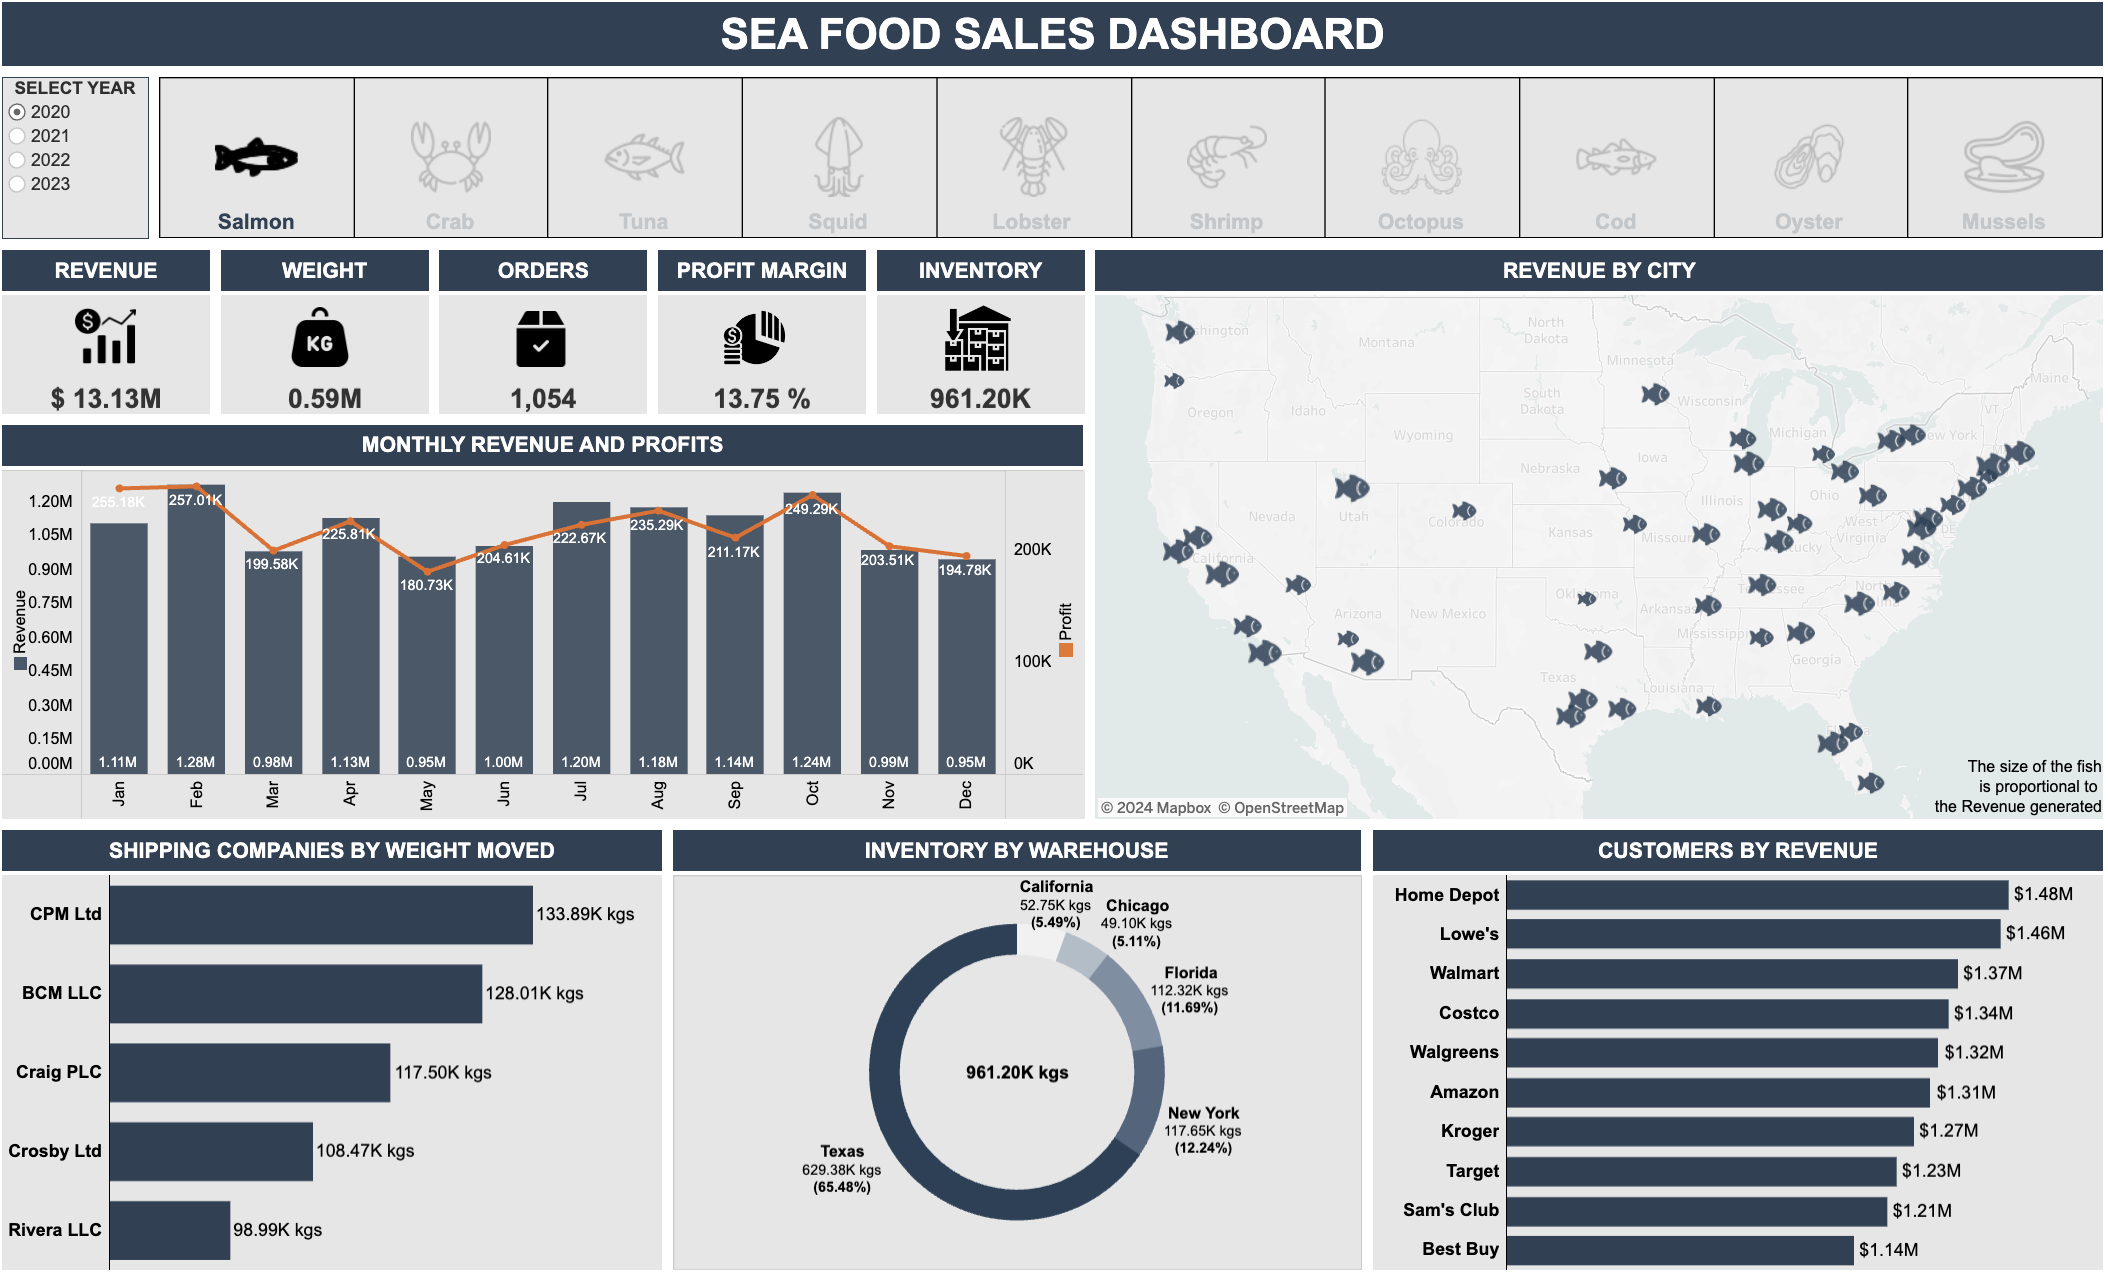

What the dashboard file says about the page in this screenshot:
{"tool":"tableau","page":{"name":"Sea Food Dashboard","canvas":[1600,975],"ordinal":0},"visuals":[{"type":"worksheet","title":"Title","mark":"Automatic","box":[8,8,1584,56.5]},{"type":"filter","title":"Customer","param":"[federated.0wc3x8509140q91arktgx0bpreui].[yr:Order Date:ok]","box":[8,64.5,118,129.5]},{"type":"worksheet","title":"Products","mark":"Shape","cols":["Product"],"box":[126,64.5,1465.9,129.5]},{"type":"worksheet","title":"Revenue(KPI)","mark":"Automatic","box":[8,194,164,131]},{"type":"worksheet","title":"Weight (KPI)","mark":"Automatic","box":[172,194,164,131]},{"type":"worksheet","title":"Orders (KPi)","mark":"Automatic","box":[336,194,164,131]},{"type":"worksheet","title":"Profit Margin (KPI)","mark":"Automatic","box":[500,194,164,131]},{"type":"worksheet","title":"Inventory (KPI)","mark":"Automatic","box":[664,194,164,131]},{"type":"worksheet","title":"Map","mark":"Shape","box":[828,194,764,435.1]},{"type":"image","param":"Image/warehouse.png","box":[717,237,54,56]},{"type":"image","param":"Image/revenue.png","box":[66,239,49,47]},{"type":"image","param":"Image/profit-margin.png","box":[552,239,50,49]},{"type":"image","param":"Image/weight.png","box":[228,241,46,45]},{"type":"image","param":"Image/sent.png","box":[395,244,42,42]},{"type":"worksheet","title":"Monthly","mark":"Bar","rows":["Revenue","Profit"],"cols":["Order Date"],"box":[8,325,820,304.1]},{"type":"image","param":"Image/Screenshot 2024-03-06 at 13.55.43.png","box":[810,492,10,10]},{"type":"image","param":"Image/Screenshot 2024-03-06 at 13.55.30.png","box":[14,502,10,11]},{"type":"text","box":[1448,578,139,45]},{"type":"worksheet","title":"Shipping Company","mark":"Automatic","rows":["Shipping Company"],"cols":["Weight"],"box":[8,629.1,503,337.9]},{"type":"worksheet","title":"Warehouse","mark":"Pie","cols":["Calculation_6251488926230122496","Calculation_6251488926230122496"],"box":[511,629.1,525,337.9]},{"type":"worksheet","title":"Customer","mark":"Automatic","rows":["Customer"],"cols":["Revenue"],"box":[1036,629.1,556,337.9]}]}

Visuals, with their boxes in screenshot pixels (x1, y1, x2, y2), scaled from the page's 1600x975 canvas onto the 2108x1276 screenshot:
"Title" worksheet: bbox=(11, 10, 2097, 84)
"Customer" filter: bbox=(11, 84, 166, 254)
"Products" worksheet (Shape marks): bbox=(166, 84, 2097, 254)
"Revenue(KPI)" worksheet: bbox=(11, 254, 227, 425)
"Weight (KPI)" worksheet: bbox=(227, 254, 443, 425)
"Orders (KPi)" worksheet: bbox=(443, 254, 659, 425)
"Profit Margin (KPI)" worksheet: bbox=(659, 254, 875, 425)
"Inventory (KPI)" worksheet: bbox=(875, 254, 1091, 425)
"Map" worksheet (Shape marks): bbox=(1091, 254, 2097, 823)
image: bbox=(945, 310, 1016, 383)
image: bbox=(87, 313, 152, 374)
image: bbox=(727, 313, 793, 377)
image: bbox=(300, 315, 361, 374)
image: bbox=(520, 319, 576, 374)
"Monthly" worksheet (Bar marks): bbox=(11, 425, 1091, 823)
image: bbox=(1067, 644, 1080, 657)
image: bbox=(18, 657, 32, 671)
text: bbox=(1908, 756, 2091, 815)
"Shipping Company" worksheet: bbox=(11, 823, 673, 1266)
"Warehouse" worksheet (Pie marks): bbox=(673, 823, 1365, 1266)
"Customer" worksheet: bbox=(1365, 823, 2097, 1266)
